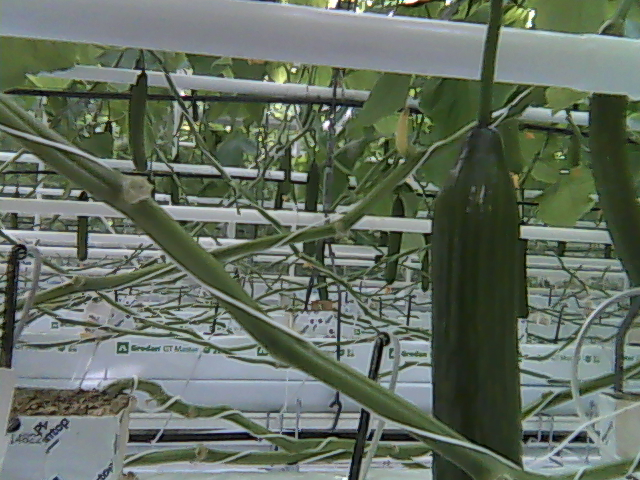concombre: (429, 116, 527, 480)
